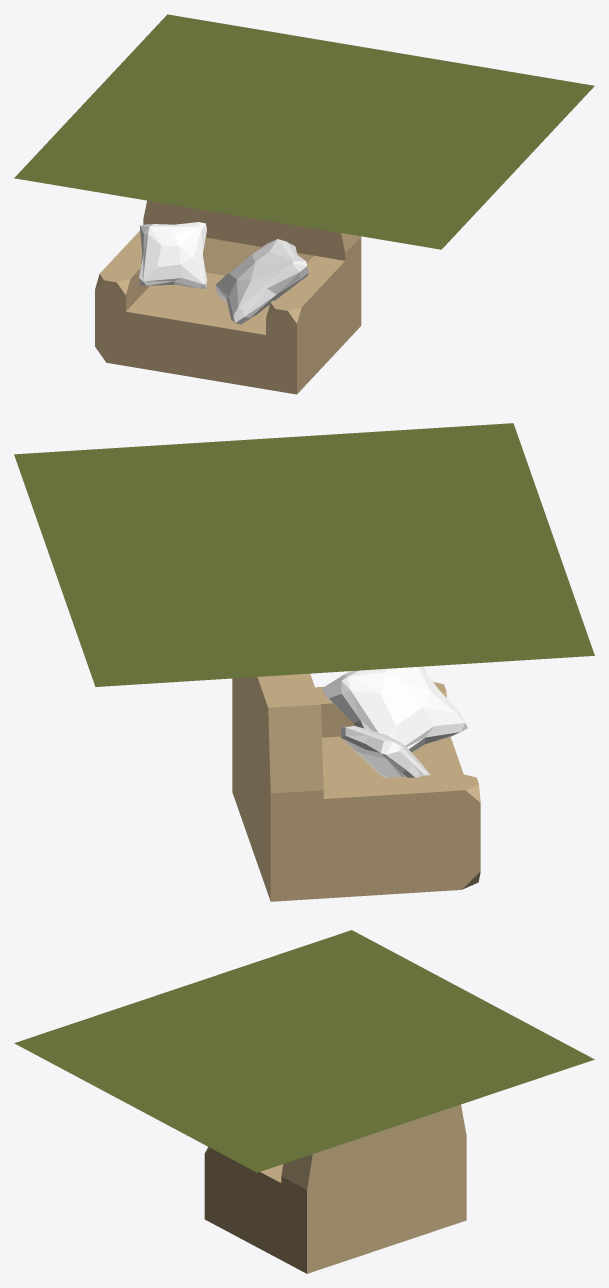
Rendered from green_sofa_1.glb.
3 renders of one model, top to bottom at view 1: azimuth 30°, elevation 25°; view 2: azimuth 150°, elevation 25°; view 3: azimuth 270°, elevation 25°, orthographic. The views are drawn at different scales.
Visible parts, largest first — view 1: Blanket, Sofa, Cushion.005, Cushion.004; view 2: Blanket, Sofa, Cushion.005, Cushion.004; view 3: Blanket, Sofa.
Part boxes in pixels (bbox=[...]): Blanket: bbox=[14, 14, 594, 249]; Sofa: bbox=[95, 200, 361, 394]; Cushion.005: bbox=[215, 239, 308, 324]; Cushion.004: bbox=[139, 222, 207, 288]; Blanket: bbox=[14, 423, 594, 686]; Sofa: bbox=[232, 673, 480, 901]; Cushion.005: bbox=[322, 666, 467, 752]; Cushion.004: bbox=[341, 725, 430, 777]; Blanket: bbox=[14, 930, 594, 1172]; Sofa: bbox=[204, 1104, 466, 1273].
Size of the model in its own units: 6.26 by 2.35 by 6.33.
